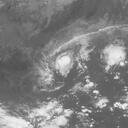cyclone: (41, 47, 84, 88)
